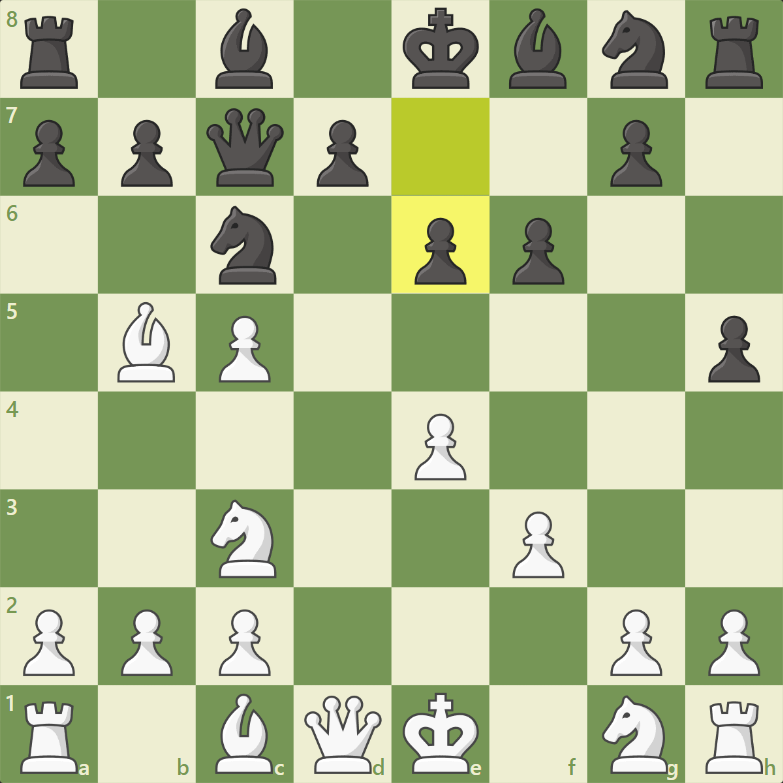B: (210, 690, 278, 777), (112, 299, 179, 387)
K: (400, 690, 480, 778)
N: (600, 693, 671, 777), (209, 499, 279, 582)
P: (509, 508, 568, 582), (411, 411, 470, 484), (216, 312, 273, 387), (705, 607, 762, 680), (608, 607, 665, 680), (119, 608, 176, 679), (216, 607, 272, 679), (20, 607, 76, 679)
Q: (300, 691, 385, 781)
R: (14, 699, 82, 779), (701, 698, 767, 777)
b: (212, 5, 276, 92), (506, 7, 570, 92)
k: (399, 4, 481, 92)
n: (209, 204, 280, 291), (599, 8, 672, 92)
p: (116, 115, 177, 192), (313, 116, 373, 191), (607, 116, 665, 193), (705, 312, 764, 386), (509, 215, 567, 288), (21, 118, 79, 191), (413, 217, 469, 289)
q: (202, 105, 286, 191)
r: (16, 12, 81, 93), (703, 13, 767, 93)
